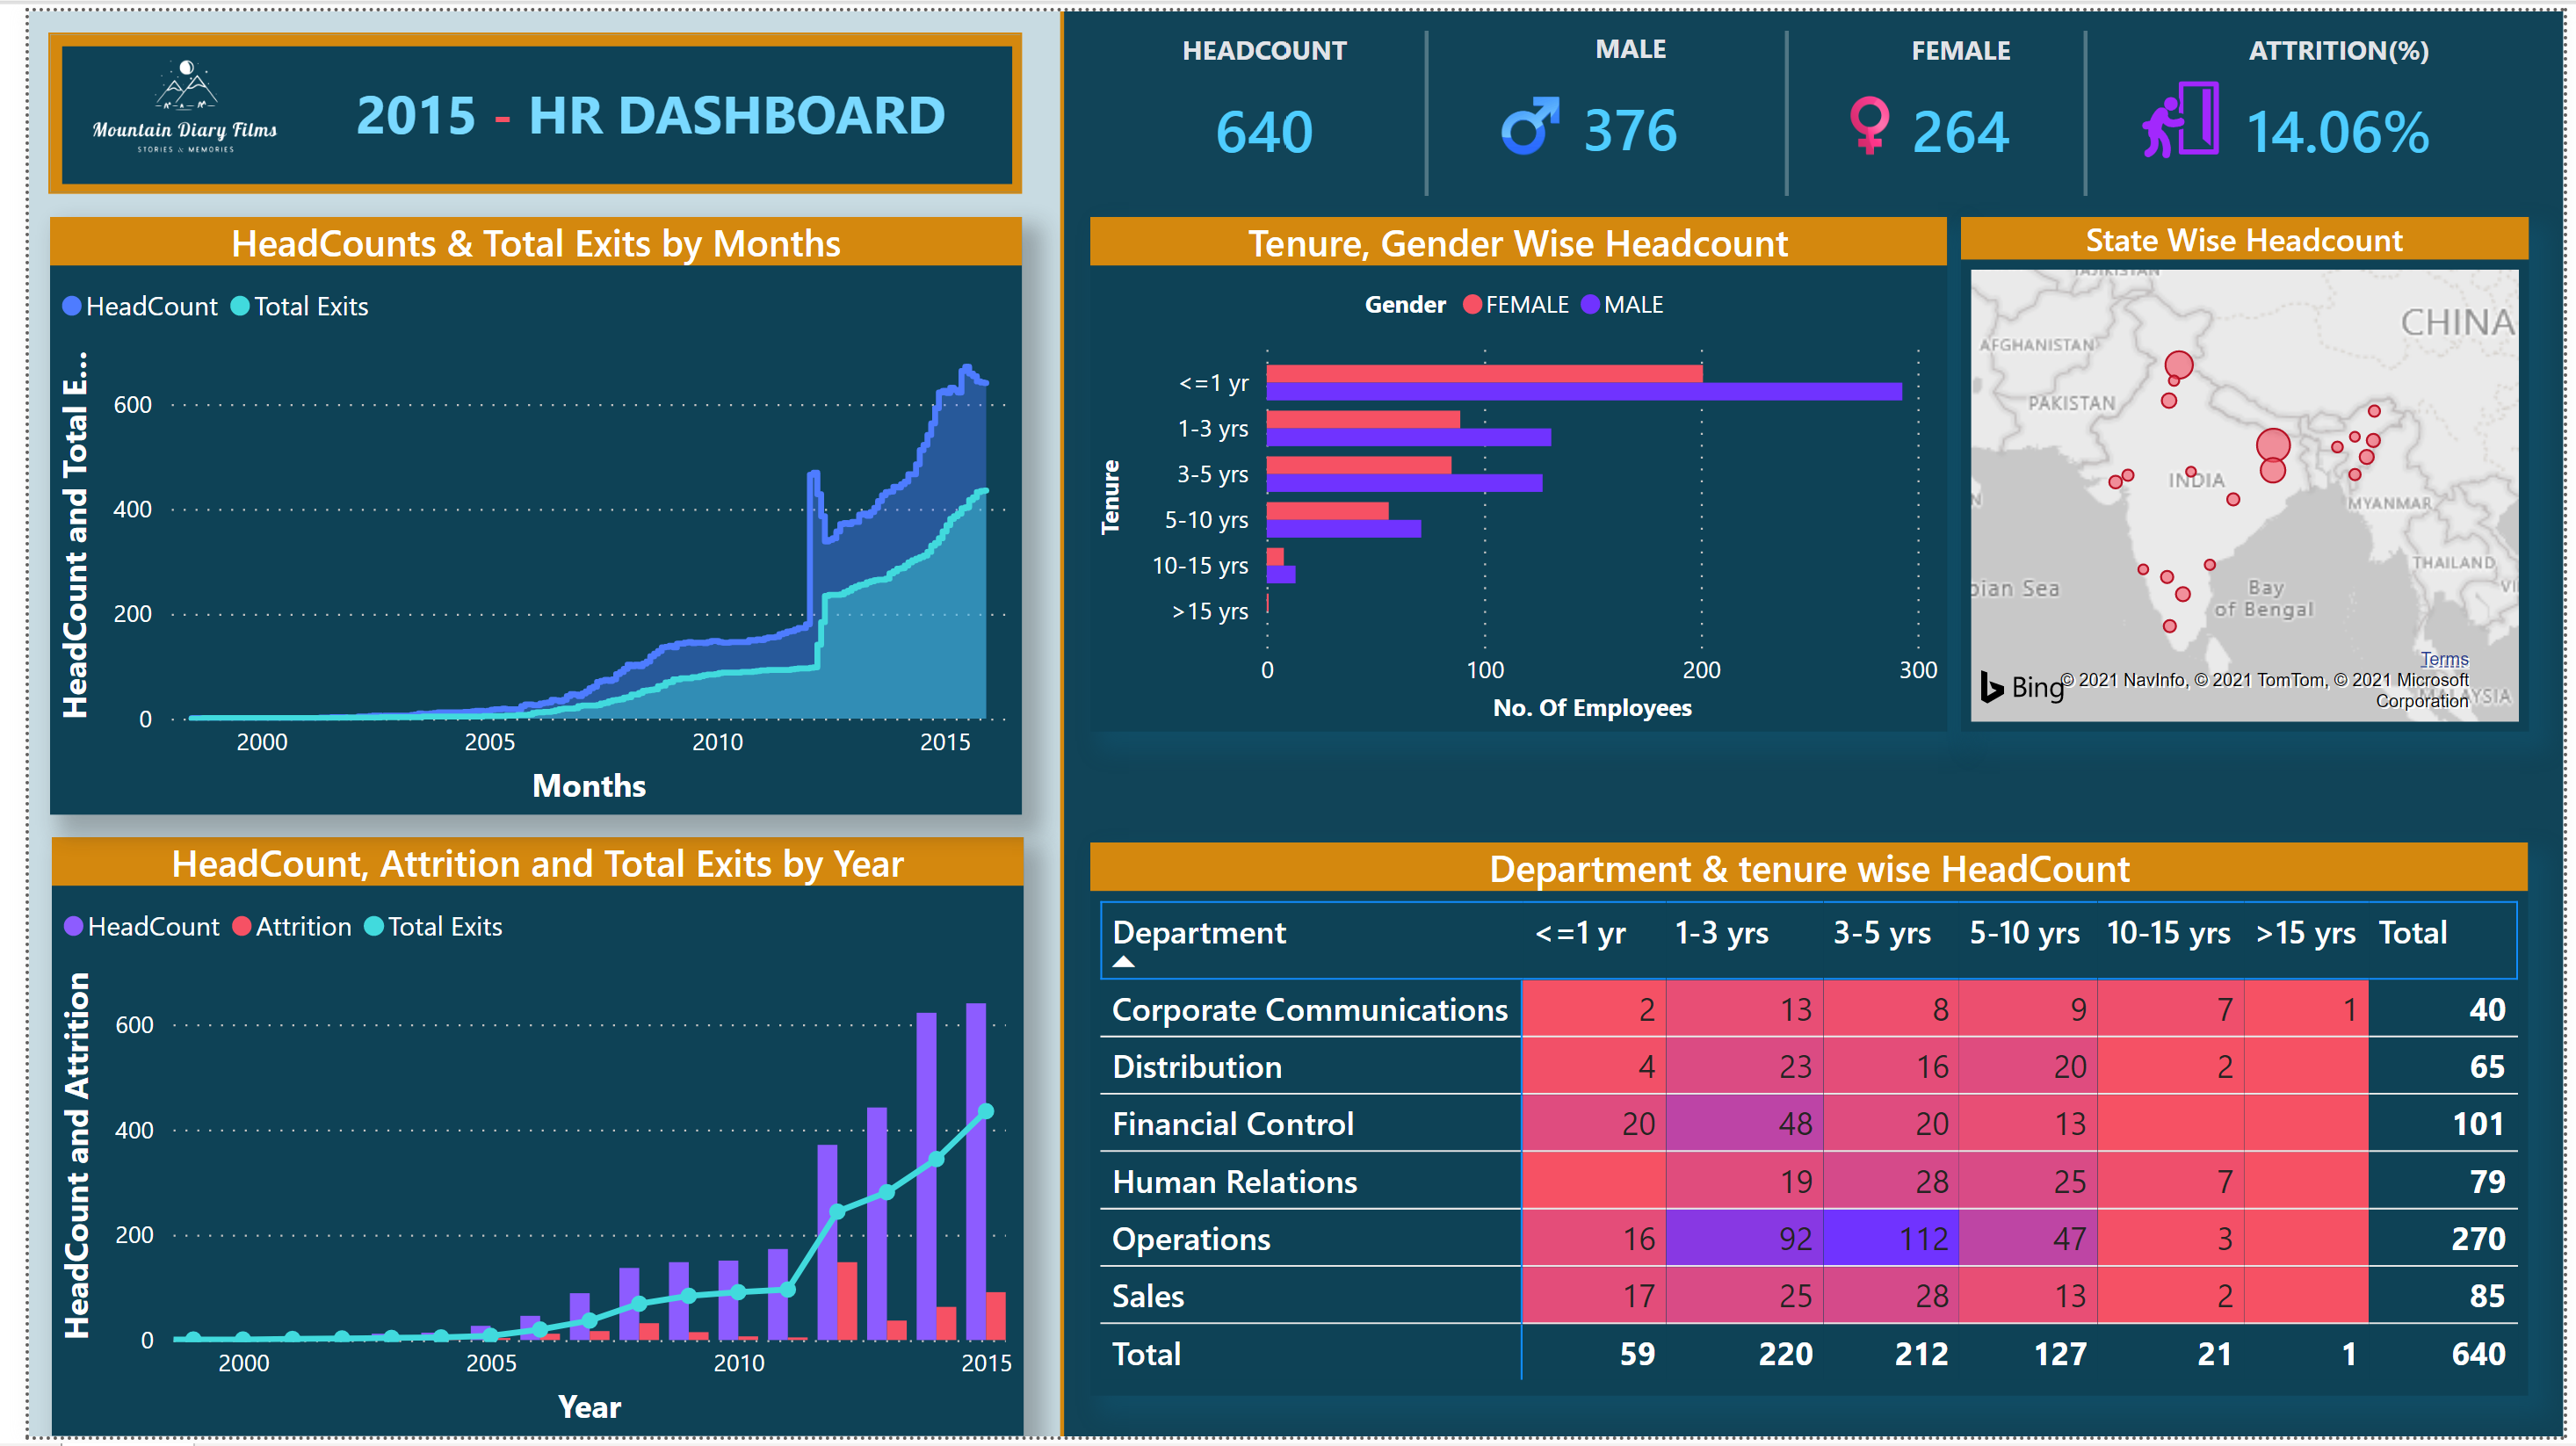

The page's visual inventory and layout, read from the dashboard file:
{"tool":"powerbi","page":{"name":"Page 1","canvas":[1280,720],"ordinal":0},"visuals":[{"type":"shape","box":[522,0,758.2,720],"z":0},{"type":"lineClusteredColumnComboChart","fields":{"Category":["Date.Year"],"Y":["Employee.HeadCount","Employee.Attrition"],"Y2":["Employee.Total Exits"]},"box":[11.5,417.3,490.9,302.7],"z":1000},{"type":"areaChart","title":"HeadCounts & Total Exits by Months","fields":{"Y":["Employee.HeadCount","Employee.Total Exits"],"Category":["Date.Months"]},"box":[10.7,103.9,490.9,301.8],"z":2000},{"type":"card","title":"MALE","fields":{"Values":["Employee. EMPLOYEE NAME"]},"box":[743.9,8.9,129.6,83.5],"z":3000},{"type":"card","title":"HEADCOUNT","fields":{"Values":["Employee.HeadCount"]},"box":[563.7,9.8,120.7,83.5],"z":4000},{"type":"card","title":"FEMALE","fields":{"Values":["Employee. EMPLOYEE NAME"]},"box":[920.6,9.8,110.1,83.5],"z":5000},{"type":"card","title":"ATTRITION(%)","fields":{"Values":["Employee.Attrition (%)"]},"box":[1098.1,9.8,137.6,83.5],"z":6000},{"type":"shape","box":[664.9,9.8,81.7,83.5],"z":7000},{"type":"image","box":[735,37.3,45.3,40.8],"z":8000},{"type":"image","box":[897.5,33.7,62.1,47.1],"z":9000},{"type":"image","box":[1055.5,30.2,61.3,48.8],"z":10000},{"type":"shape","box":[846.9,9.8,81.7,83.5],"z":11000},{"type":"shape","box":[997.8,9.8,81.7,83.5],"z":12000},{"type":"clusteredBarChart","title":"Tenure, Gender Wise  Headcount","fields":{"Category":["Tenuretbl.Tenure"],"Y":["Employee.EMPLOYEE ID"],"Series":["Employee. SEX"]},"box":[536.2,103.9,432.4,260.1],"z":13000},{"type":"pivotTable","title":"Department & tenure wise HeadCount","fields":{"Rows":["Employee.Department"],"Columns":["Tenuretbl.Tenure"],"Values":["Employee.EMPLOYEE ID"]},"box":[536.2,419.9,726.2,279.7],"z":14000},{"type":"map","title":"State Wise Headcount","fields":{"Category":["Employee.State"],"Size":["Employee.EMPLOYEE ID"]},"box":[975.7,103.9,286.8,260.1],"z":15000},{"type":"shape","box":[9.8,10.7,491.8,81.7],"z":16000},{"type":"image","box":[24.9,0,107.4,103.9],"z":17000},{"type":"textbox","box":[150.9,27.5,326.7,46.2],"z":18000},{"type":"shape","box":[372,0,300.1,720],"z":19000}]}

Visuals, with their boxes in screenshot pixels (x1, y1, x2, y2), scaled from the page's 1280x720 canvas onto the 2576x1446 screenshot:
shape: [1051,0,2575,1445]
lineClusteredColumnComboChart - Date.Year x Employee.HeadCount: [23,838,1011,1445]
"HeadCounts & Total Exits by Months" areaChart: [22,209,1009,814]
"MALE" card: [1497,18,1758,185]
"HEADCOUNT" card: [1134,19,1378,187]
"FEMALE" card: [1853,19,2074,187]
"ATTRITION(%)" card: [2210,19,2487,187]
shape: [1338,19,1502,187]
image: [1480,75,1570,157]
image: [1806,68,1931,163]
image: [2124,61,2247,159]
shape: [1704,19,1869,187]
shape: [2008,19,2173,187]
"Tenure, Gender Wise  Headcount" clusteredBarChart: [1079,209,1950,731]
"Department & tenure wise HeadCount" pivotTable: [1079,843,2541,1405]
"State Wise Headcount" map: [1964,209,2541,731]
shape: [19,21,1009,185]
image: [50,0,266,209]
textbox: [304,55,961,148]
shape: [749,0,1353,1445]
